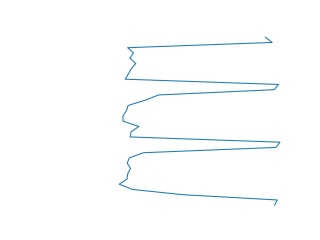majorRiverChannelBar: (116, 37, 284, 207)
